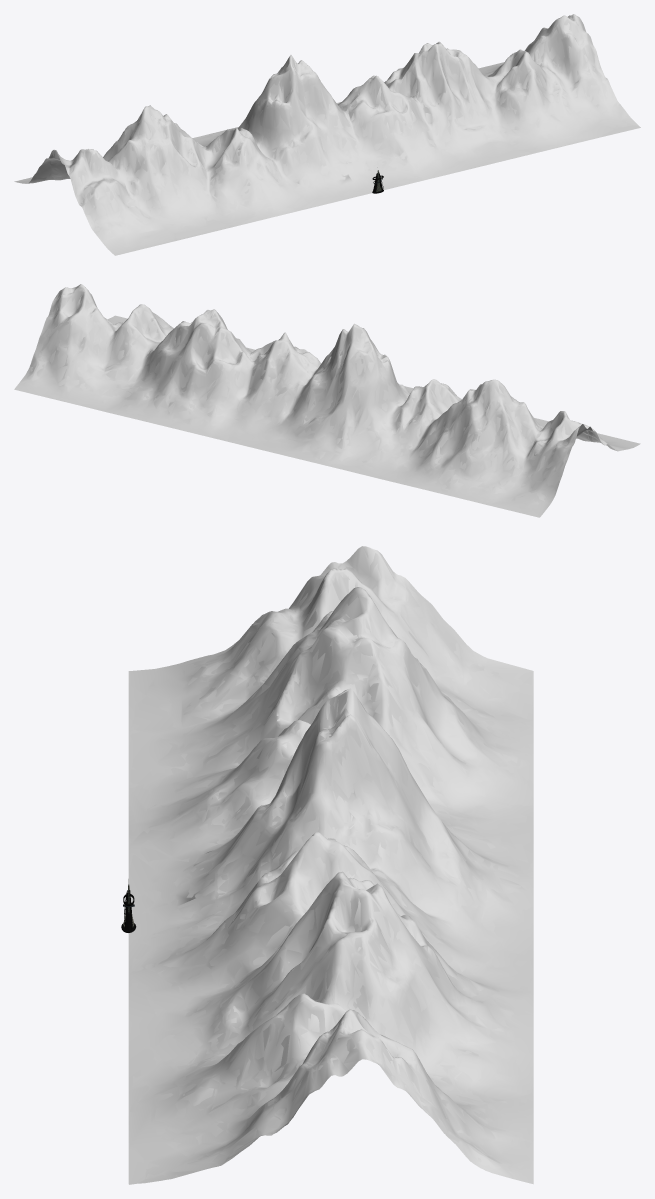
File: waterfront.glb
3 views of the same model, one above another, from view 1: azimuth 30°, elevation 25°; view 2: azimuth 150°, elevation 25°; view 3: azimuth 270°, elevation 25° (orthographic). The views are drawn at different scales.
Parts seen in each view (by area): view 1: AlpineMassifDistant, AlpineMassif; view 2: AlpineMassifDistant, AlpineMassif; view 3: AlpineMassifDistant, AlpineMassif.
Boxes of the visible parts, x1,y1,x2,y2 form: AlpineMassifDistant: (14, 14, 640, 255); AlpineMassif: (16, 14, 640, 255); AlpineMassifDistant: (14, 284, 639, 517); AlpineMassif: (18, 284, 640, 516); AlpineMassifDistant: (128, 546, 533, 1184); AlpineMassif: (128, 546, 533, 1184).
Size of the model in its own units: 7202 by 1369 by 2444.
Materials: 2 (1 with a texture image).
